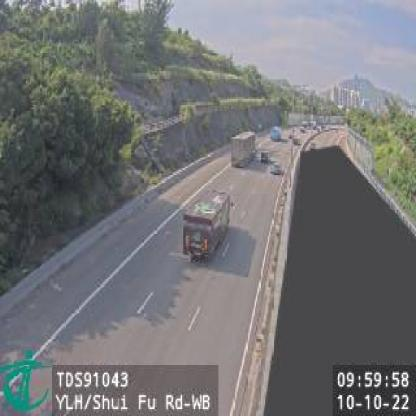Car: (271, 164, 283, 176), (261, 150, 271, 162)
Truck: (185, 192, 232, 258), (232, 130, 256, 167), (270, 125, 283, 141)
